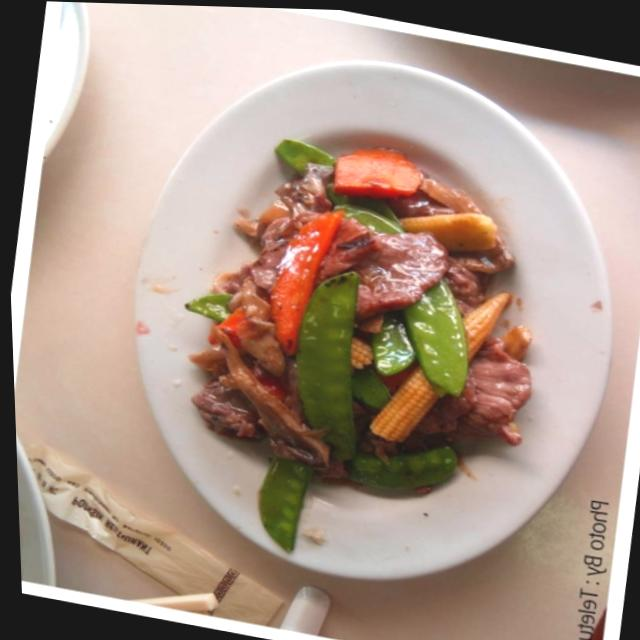牛肉菜式: (113, 71, 618, 578)
